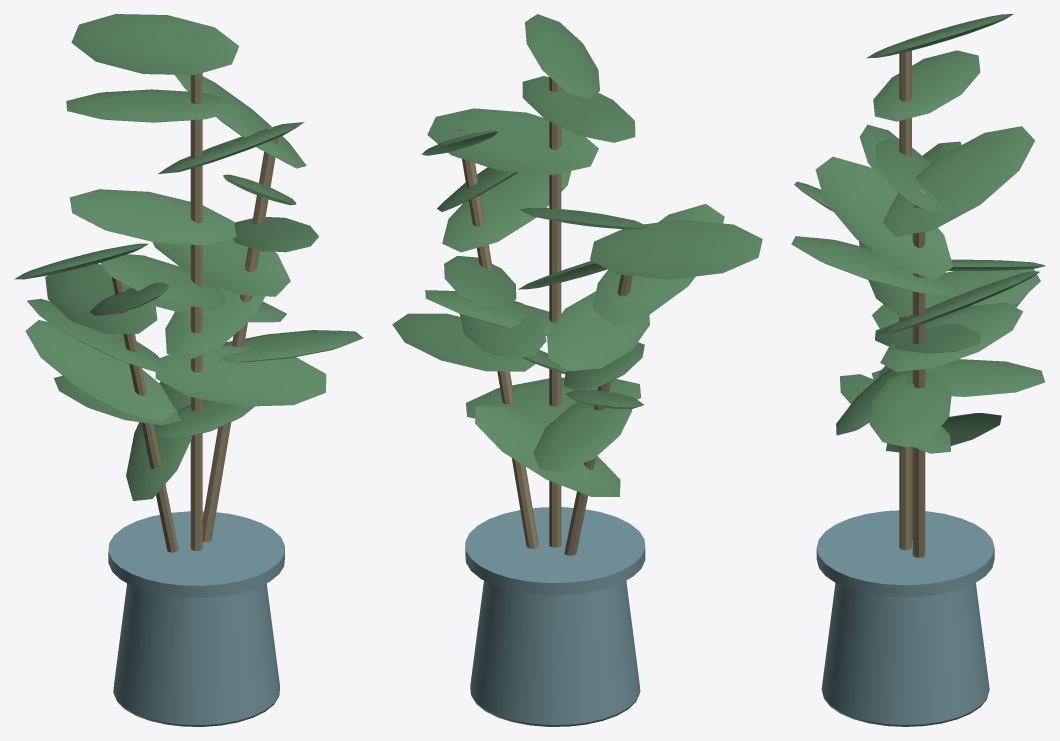
The model's file is dn_floor_plant.fbx.
3 views of the same model, side by side, from view 1: azimuth 30°, elevation 25°; view 2: azimuth 150°, elevation 25°; view 3: azimuth 270°, elevation 25° (orthographic).
Parts seen in each view (by area): view 1: Pot, PotRim, Leaf.013, Leaf.007, Leaf.010, Leaf.023, Leaf.012, Stem0, Leaf.025, Leaf.017, Leaf.009, Leaf.008 (+14 smaller); view 2: Pot, PotRim, Leaf.027, Leaf.011, Leaf.018, Leaf.025, Leaf.021, Leaf.022, Leaf.012, Leaf.015, Leaf.026, Leaf.013 (+13 smaller); view 3: Pot, PotRim, Leaf.020, Leaf.019, Leaf.015, Leaf.012, Leaf.016, Leaf.018, Leaf.022, Stem1, Leaf.024, Stem0 (+10 smaller).
Part boxes in pixels (x1,y1,x2,y2): Pot: [113, 583, 279, 726]; PotRim: [108, 511, 284, 597]; Leaf.013: [71, 14, 239, 74]; Leaf.007: [155, 346, 326, 406]; Leaf.010: [69, 189, 236, 245]; Leaf.023: [25, 320, 175, 421]; Leaf.012: [66, 89, 238, 122]; Stem0: [190, 73, 202, 550]; Leaf.025: [45, 263, 157, 333]; Leaf.017: [152, 238, 290, 296]; Leaf.009: [100, 254, 227, 308]; Leaf.008: [165, 286, 265, 360]; Pot: [470, 580, 640, 726]; PotRim: [465, 507, 645, 595]; Leaf.027: [590, 219, 762, 279]; Leaf.011: [427, 108, 598, 174]; Leaf.018: [442, 171, 571, 252]; Leaf.025: [547, 291, 649, 371]; Leaf.021: [475, 406, 620, 496]; Leaf.022: [533, 393, 632, 471]; Leaf.012: [522, 76, 635, 142]; Leaf.015: [392, 313, 535, 371]; Leaf.026: [593, 204, 724, 325]; Leaf.013: [525, 14, 599, 98]; Pot: [821, 583, 989, 726]; PotRim: [816, 510, 994, 597]; Leaf.020: [882, 126, 1034, 236]; Leaf.019: [815, 156, 952, 279]; Leaf.015: [869, 372, 951, 447]; Leaf.012: [873, 50, 980, 121]; Leaf.016: [880, 302, 1022, 371]; Leaf.018: [791, 236, 959, 295]; Leaf.022: [871, 359, 1044, 396]; Stem1: [912, 190, 925, 557]; Leaf.024: [872, 269, 1040, 328]; Stem0: [899, 50, 911, 550].
Size of the model in its own units: 0.9141 by 1.64 by 0.5725.
